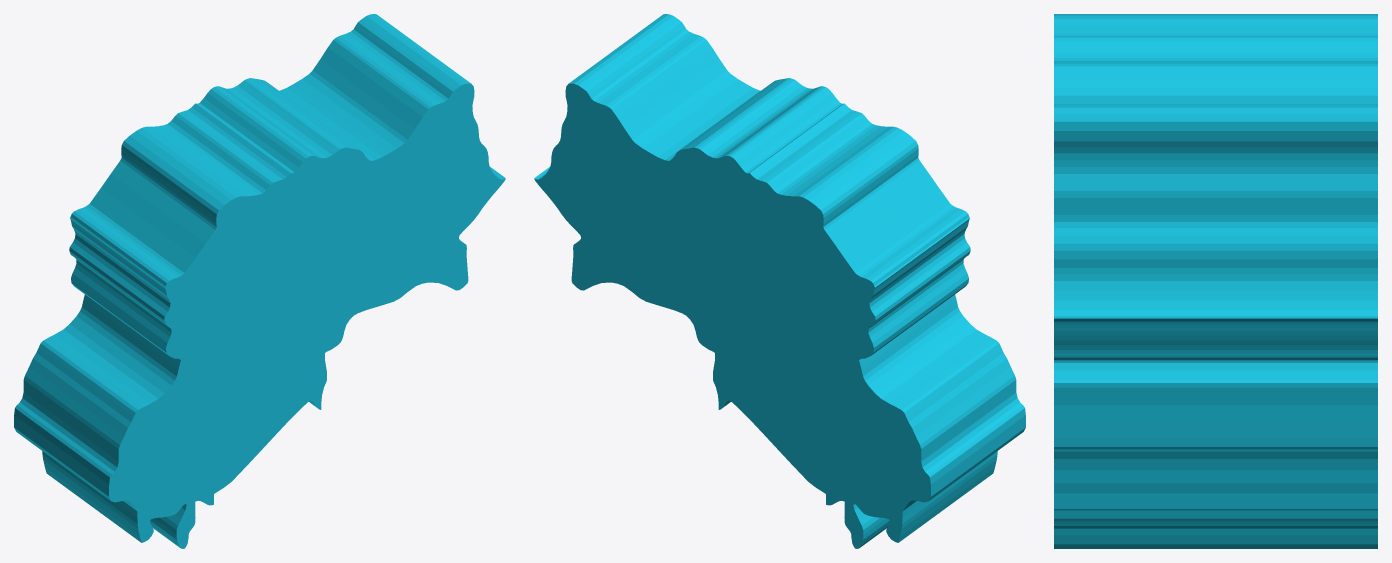
File: huanuco.glb
3 renders of one model, left to right at view 1: azimuth 30°, elevation 25°; view 2: azimuth 150°, elevation 25°; view 3: azimuth 270°, elevation 25°, orthographic. The views are drawn at different scales.
Visible parts, largest first — view 1: huanuco; view 2: huanuco; view 3: huanuco.
Boxes of the visible parts, x1=… form: huanuco: x1=14, y1=14, x2=505, y2=548; huanuco: x1=534, y1=14, x2=1025, y2=548; huanuco: x1=1054, y1=14, x2=1377, y2=548.
Bounding box in the file's own units: 3.21 × 3.06 × 1.33.
